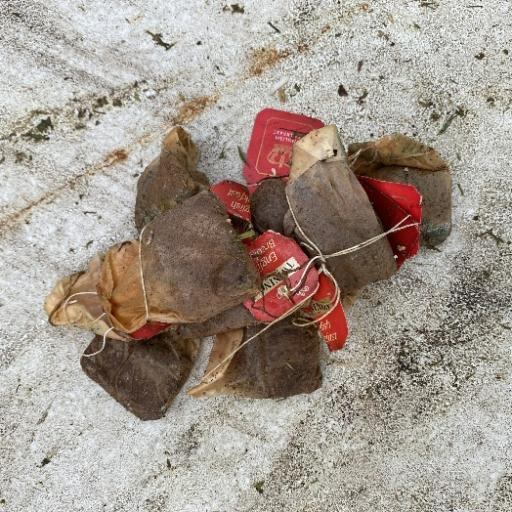Waste: (43, 108, 453, 421)
